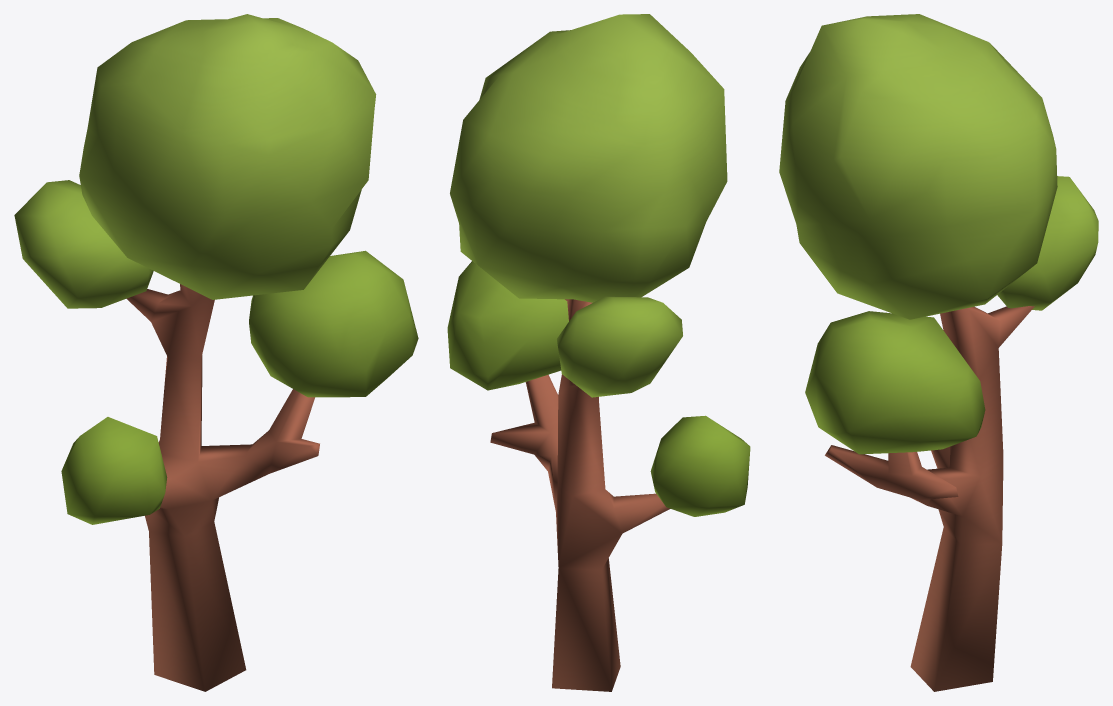
Rendered from treeStandard.fbx.
3 views of the same model, side by side, from view 1: azimuth 30°, elevation 25°; view 2: azimuth 150°, elevation 25°; view 3: azimuth 270°, elevation 25° (orthographic). The views are drawn at different scales.
Parts seen in each view (by area): view 1: Tree1; view 2: Tree1; view 3: Tree1.
Boxes of the visible parts, bbox=[...] form: Tree1: bbox=[14, 14, 418, 691]; Tree1: bbox=[447, 14, 750, 691]; Tree1: bbox=[779, 14, 1098, 691].
Bounding box in the file's own units: 22509 × 45841 × 20119.
